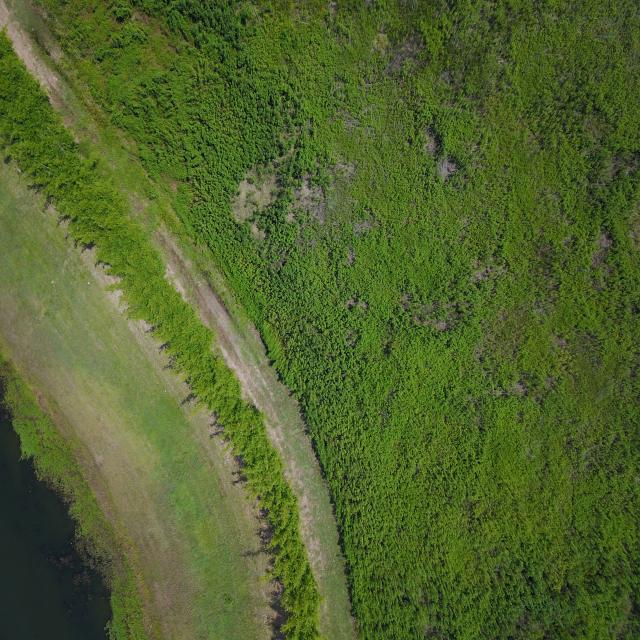fire: (0, 406, 111, 640)
